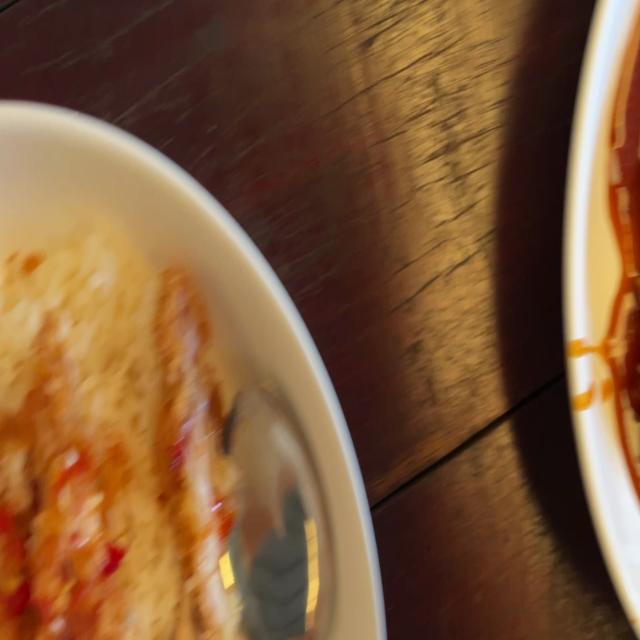chicken_rice: (0, 243, 264, 640)
fried_chicken: (4, 322, 235, 619)
